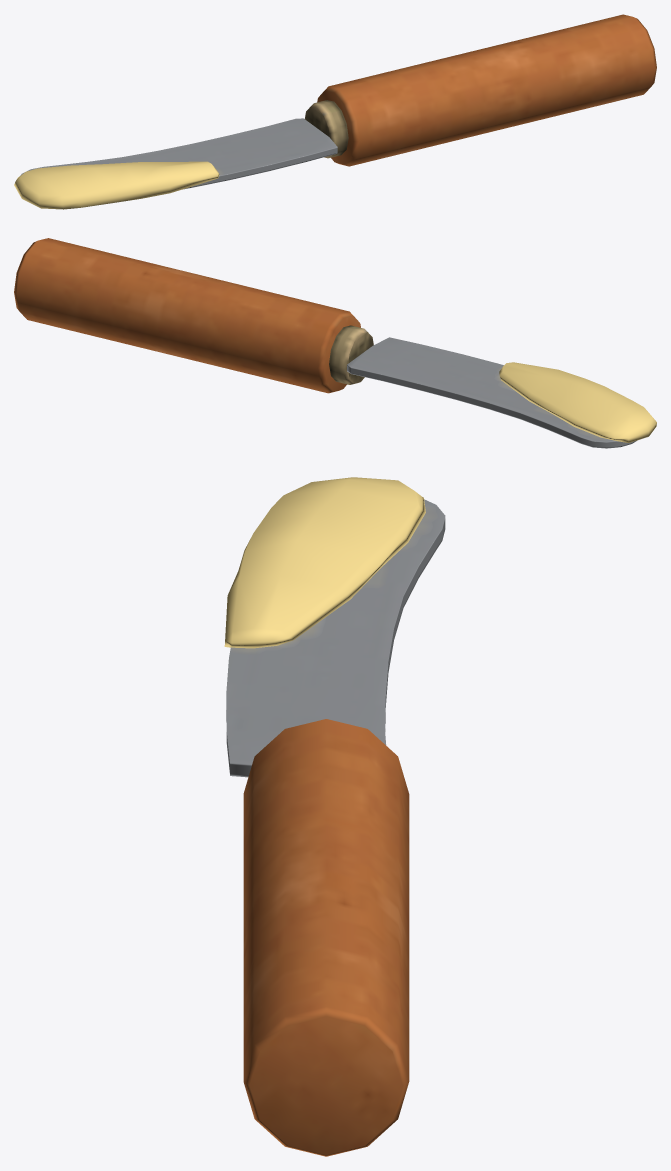
Rendered from pi_knife01_butter.gltf.
3 renders of one model, top to bottom at view 1: azimuth 30°, elevation 25°; view 2: azimuth 150°, elevation 25°; view 3: azimuth 270°, elevation 25°, orthographic. The views are drawn at different scales.
Visible parts, largest first — view 1: um_pi_knife01_butter_model_pi_knife01_butter_modelShape:pi_k (×2); view 2: um_pi_knife01_butter_model_pi_knife01_butter_modelShape:pi_k (×2); view 3: um_pi_knife01_butter_model_pi_knife01_butter_modelShape:pi_k (×2).
Part boxes in pixels (x1,y1,x2,y2): um_pi_knife01_butter_model_pi_knife01_butter_modelShape:pi_k (×2): (14, 14, 656, 209); um_pi_knife01_butter_model_pi_knife01_butter_modelShape:pi_k (×2): (14, 238, 656, 448); um_pi_knife01_butter_model_pi_knife01_butter_modelShape:pi_k (×2): (224, 477, 445, 1156).
Size of the model in its own units: 0.1997 by 0.0235 by 0.0315.
3 materials, 3 textured.
